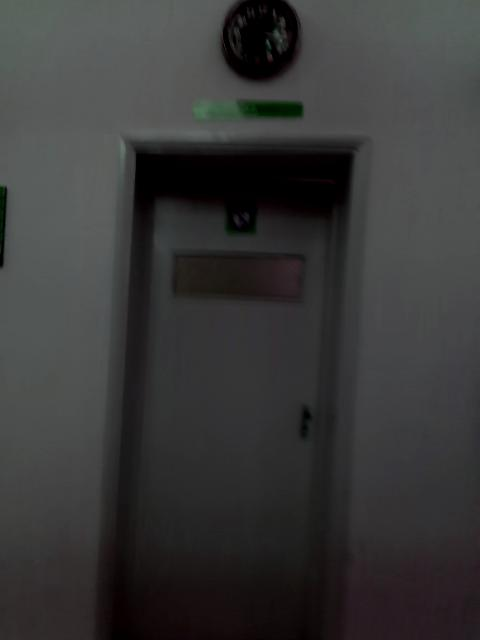closed_door: (109, 149, 350, 638)
